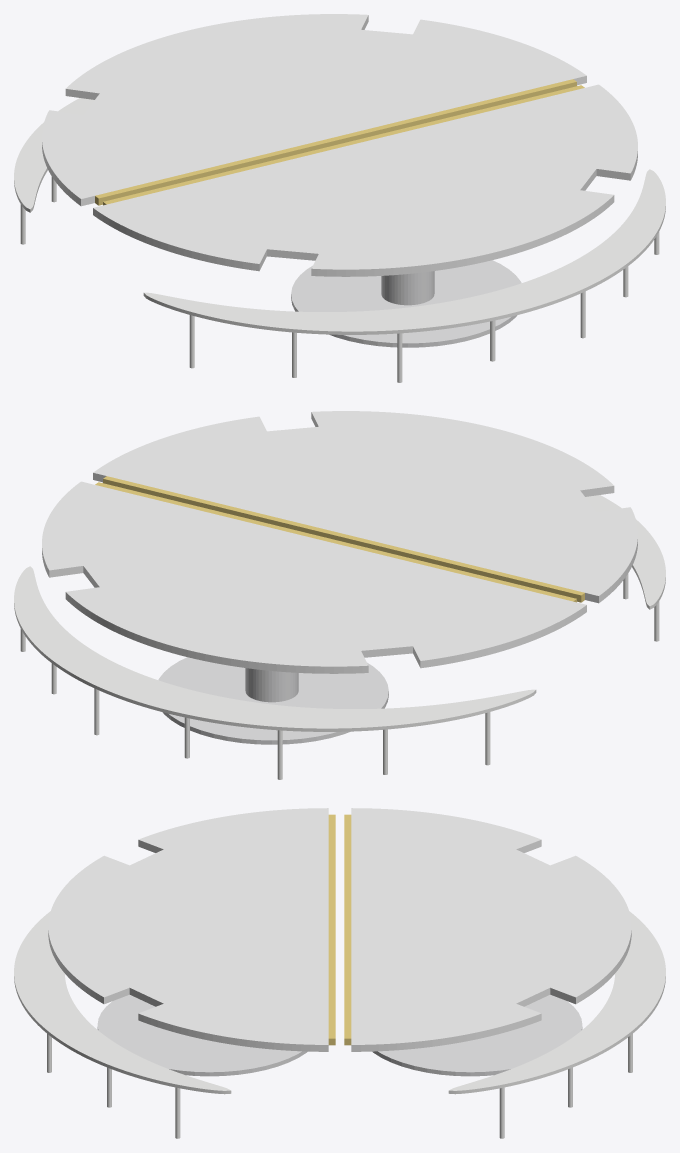
Rendered from Bench.glb.
The picture shows the model from 3 angles, top to bottom: view 1: azimuth 30°, elevation 25°; view 2: azimuth 150°, elevation 25°; view 3: azimuth 270°, elevation 25°; orthographic projection. The views are drawn at different scales.
Parts seen in each view (by area): view 1: Table, Bench_1_Seat, Bench_2_Seat; view 2: Table, Bench_2_Seat, Bench_1_Seat; view 3: Table, Bench_1_Seat, Bench_2_Seat.
Part boxes in pixels (x1,y1,x2,y2): Table: [42, 14, 637, 347]; Bench_1_Seat: [143, 169, 665, 334]; Bench_2_Seat: [14, 98, 94, 212]; Table: [42, 411, 637, 744]; Bench_2_Seat: [14, 566, 536, 731]; Bench_1_Seat: [585, 495, 665, 609]; Table: [48, 808, 631, 1076]; Bench_1_Seat: [14, 911, 231, 1094]; Bench_2_Seat: [448, 911, 665, 1094].
Bounding box in the file's own units: 11.04 × 2.22 × 12.8.
